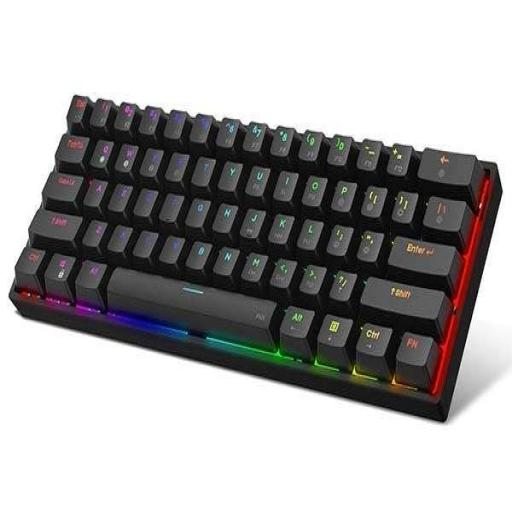keyboard: (10, 85, 508, 429)
